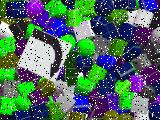Right: (17, 27, 73, 83)
